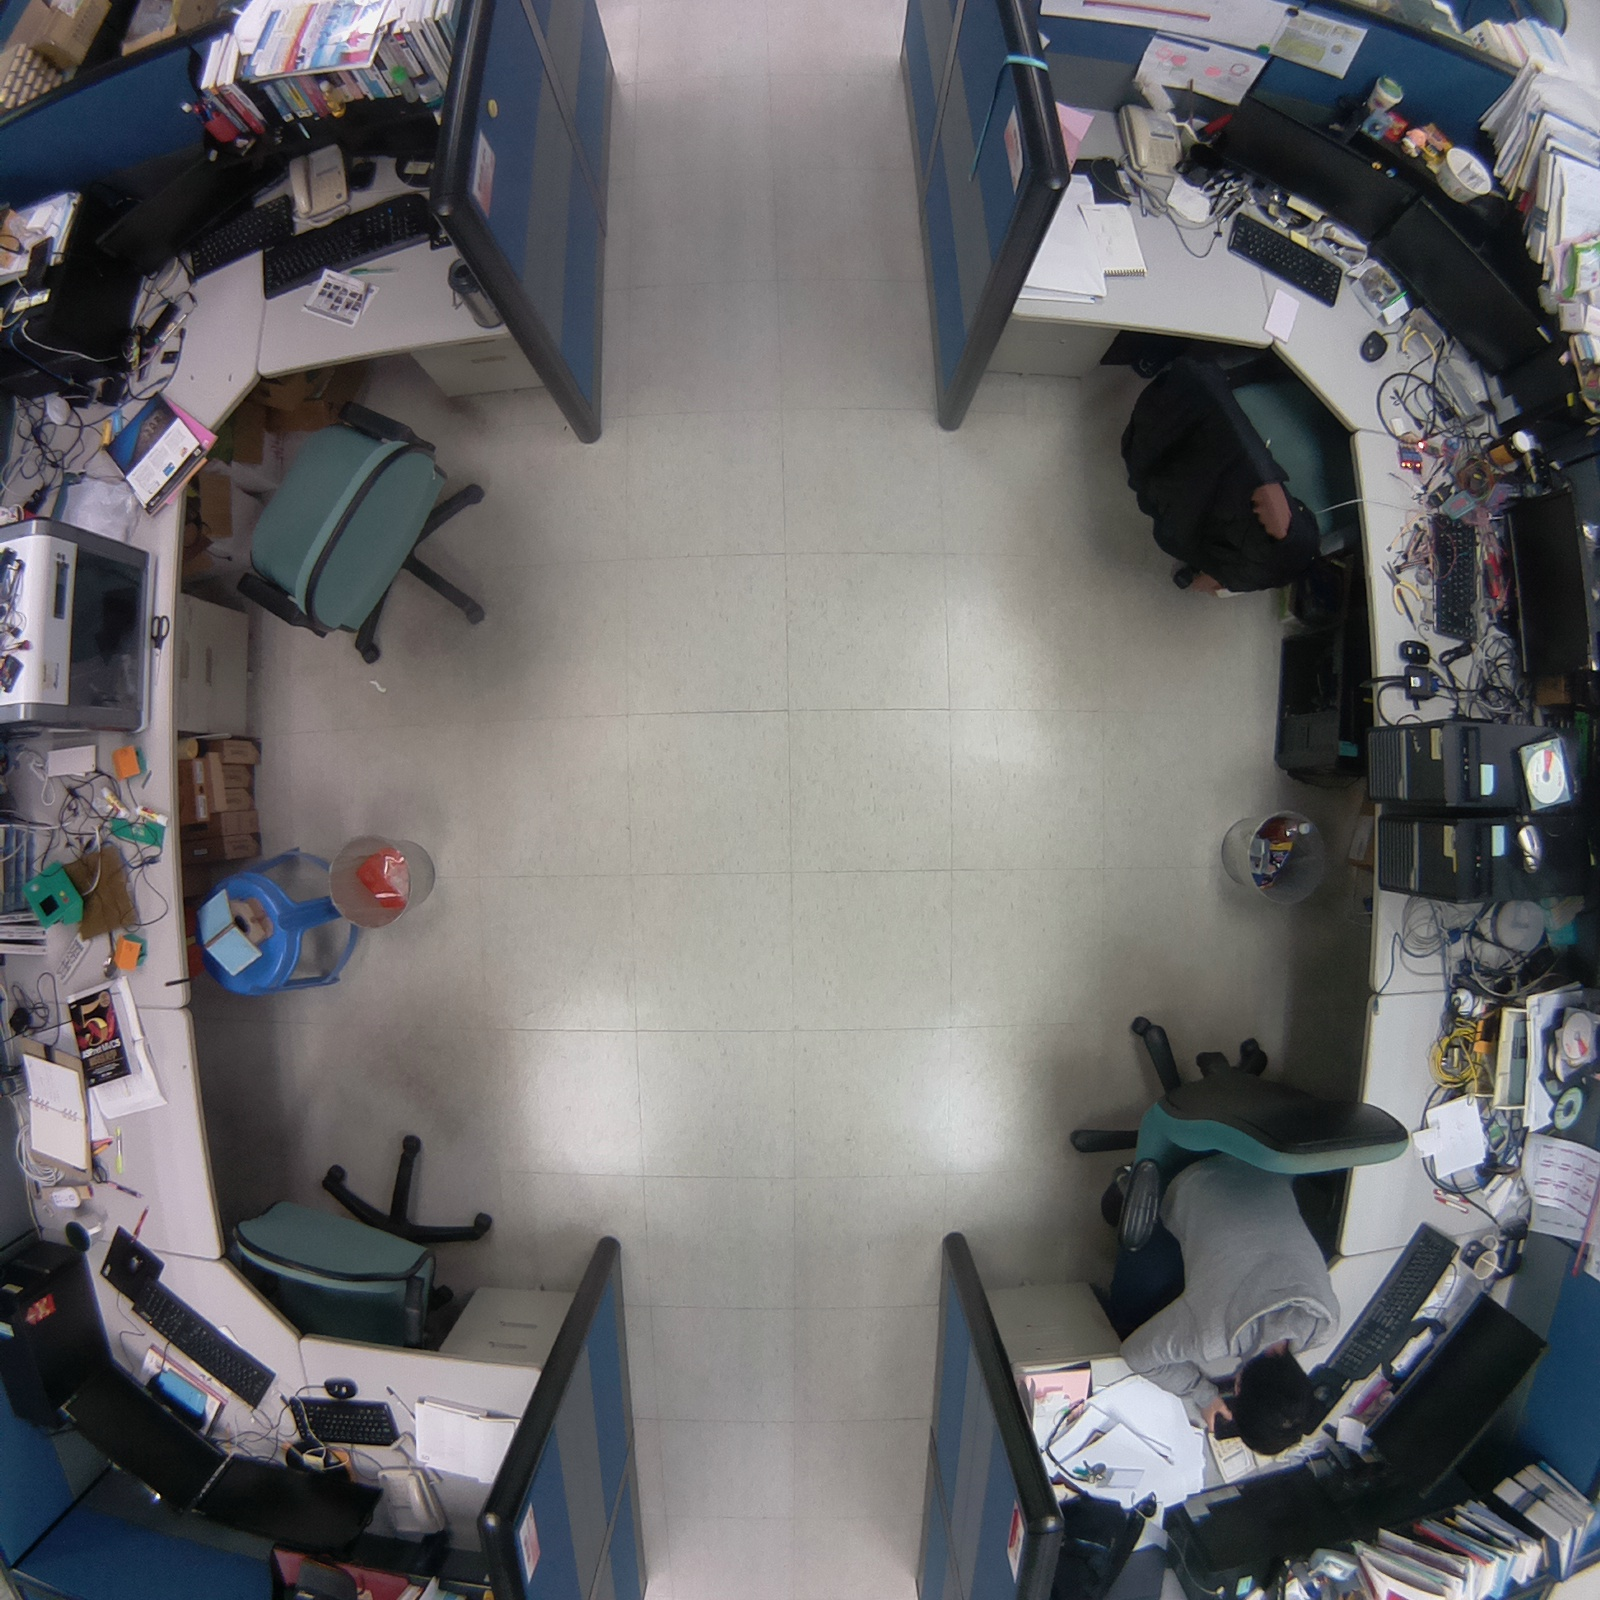chair: (173, 383, 532, 686), (1104, 327, 1381, 611), (217, 1106, 524, 1363)
head: (1223, 1346, 1325, 1461)
sitting: (1042, 993, 1429, 1470)
